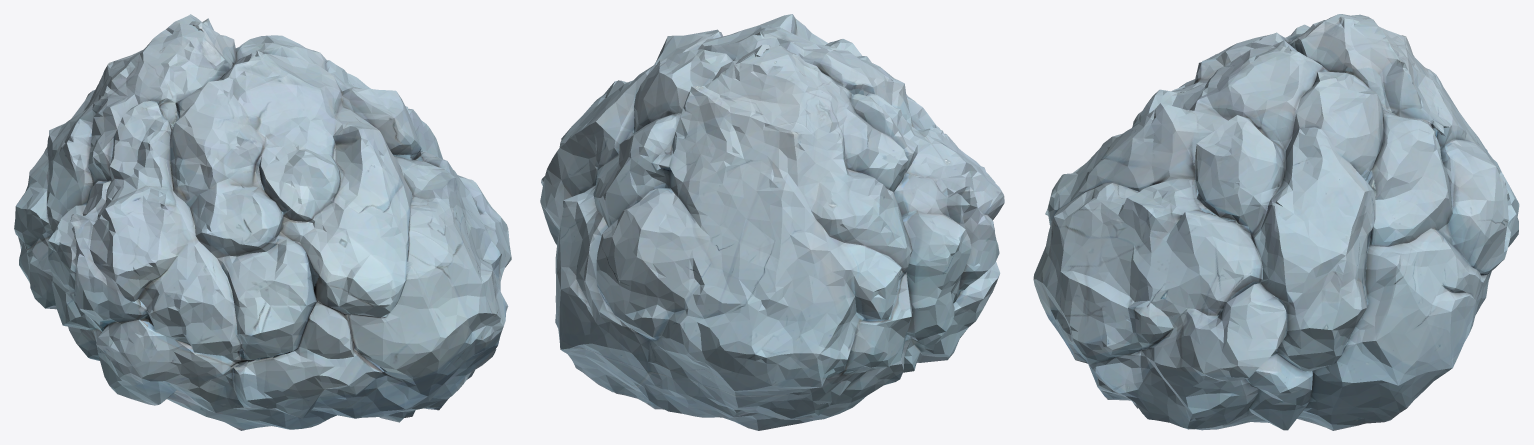
File: SpaceObstacle.fbx
3 renders of one model, left to right at view 1: azimuth 30°, elevation 25°; view 2: azimuth 150°, elevation 25°; view 3: azimuth 270°, elevation 25°, orthographic. The views are drawn at different scales.
Parts seen in each view (by area): view 1: temp; view 2: temp; view 3: temp.
Boxes of the visible parts, <box> form: temp: <box>14,14,511,430</box>; temp: <box>540,14,1004,430</box>; temp: <box>1033,14,1519,430</box>.
Bounding box in the file's own units: 201 × 162 × 201.
1 material, 1 textured.
